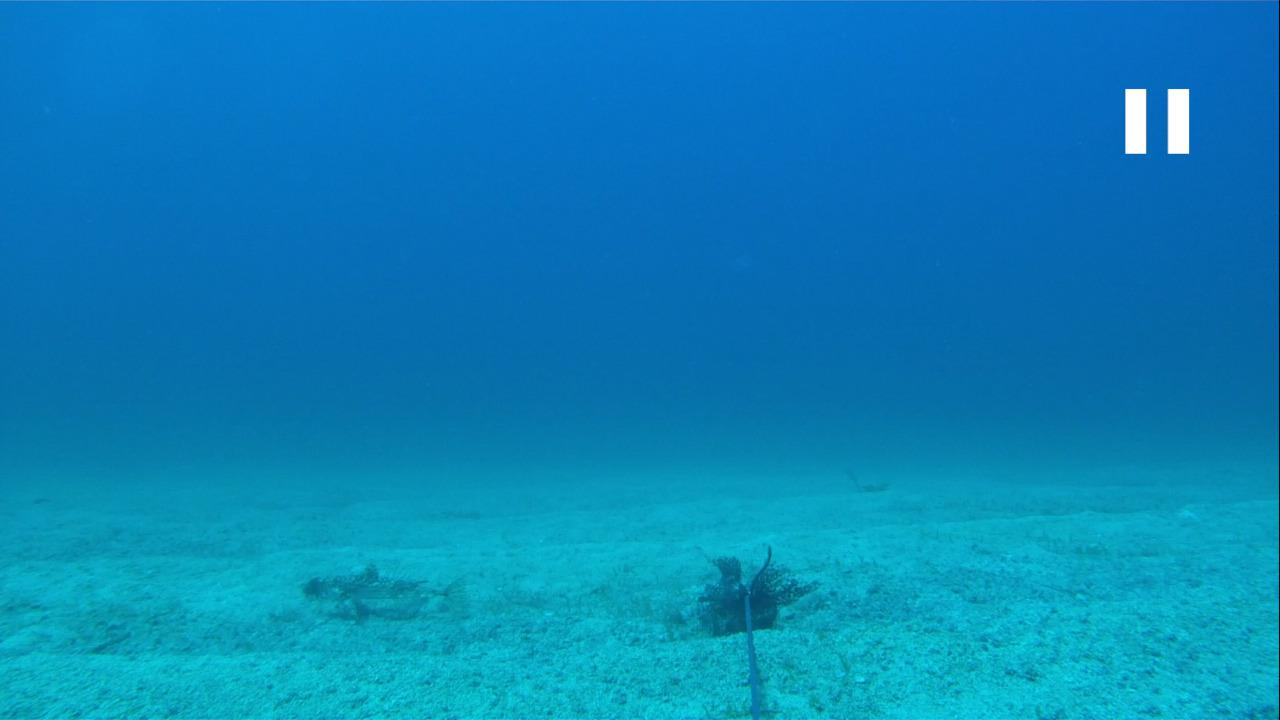dactylopterus: (301, 560, 467, 619)
